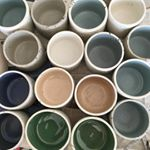cups: (73, 73, 118, 118), (33, 66, 76, 109), (84, 32, 126, 75)
